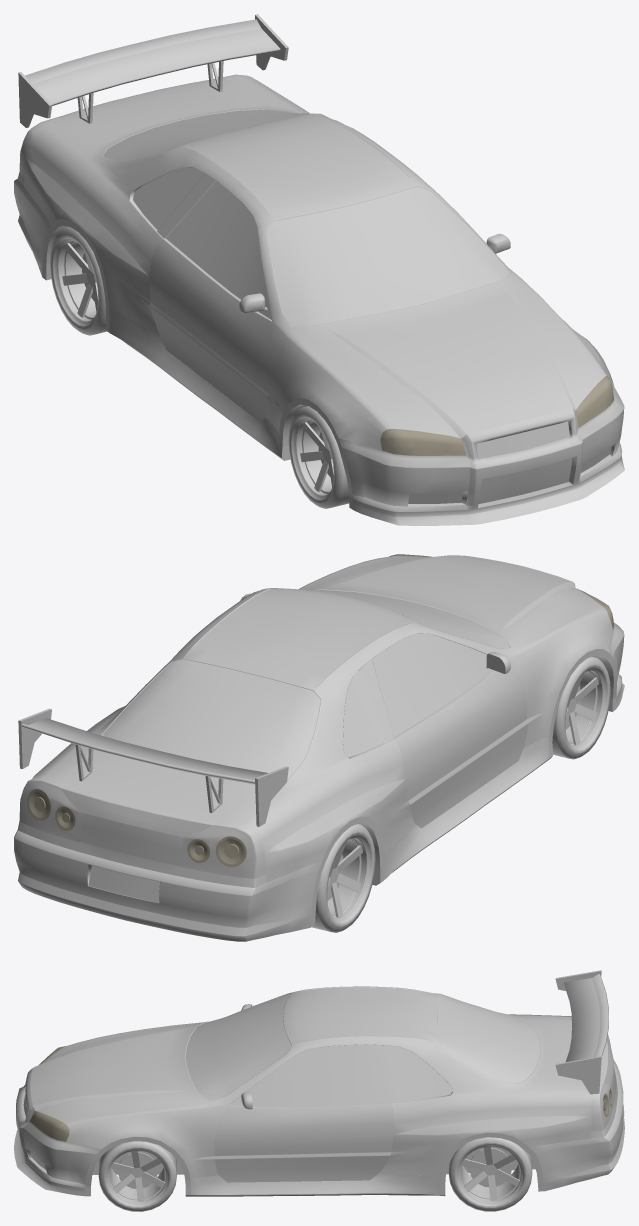
Rendered from traffic-r34.obj.
3 views of the same model, one above another, from view 1: azimuth 30°, elevation 25°; view 2: azimuth 150°, elevation 25°; view 3: azimuth 270°, elevation 25° (orthographic). The views are drawn at different scales.
Parts seen in each view (by area): view 1: Body_Plane.004, Wing_Cube.021, Grill_Plane.017, Rear_Right_Wheel_Cylinder.008, Front_Right_Wheel_Cylinder.007, Front_light_Plane.018, Side_Mirrors__Cube; view 2: Body_Plane.004, Wing_Cube.021, Rear_Right_Wheel_Cylinder.008, Front_Right_Wheel_Cylinder.007, Rear_light_Plane.005; view 3: Body_Plane.004, Rear_Left_Wheel_Cylinder.005, Front_Left_Wheel_Cylinder.006, Wing_Cube.021, Front_light_Plane.018.
Boxes of the visible parts, x1,y1,x2,y2 form: Body_Plane.004: [14, 74, 624, 525]; Wing_Cube.021: [18, 14, 288, 127]; Grill_Plane.017: [408, 421, 611, 503]; Rear_Right_Wheel_Cylinder.008: [50, 226, 106, 335]; Front_Right_Wheel_Cylinder.007: [288, 406, 349, 508]; Front_light_Plane.018: [380, 376, 613, 455]; Side_Mirrors__Cube: [239, 233, 510, 313]; Body_Plane.004: [14, 555, 624, 941]; Wing_Cube.021: [18, 708, 288, 826]; Rear_Right_Wheel_Cylinder.008: [312, 824, 375, 932]; Front_Right_Wheel_Cylinder.007: [552, 656, 610, 759]; Rear_light_Plane.005: [27, 789, 246, 866]; Body_Plane.004: [14, 986, 624, 1196]; Rear_Left_Wheel_Cylinder.005: [448, 1137, 532, 1211]; Front_Left_Wheel_Cylinder.006: [98, 1141, 176, 1211]; Wing_Cube.021: [555, 970, 608, 1094]; Front_light_Plane.018: [29, 1046, 69, 1141].
Bounding box in the file's own units: 2 × 1.44 × 5.19.
